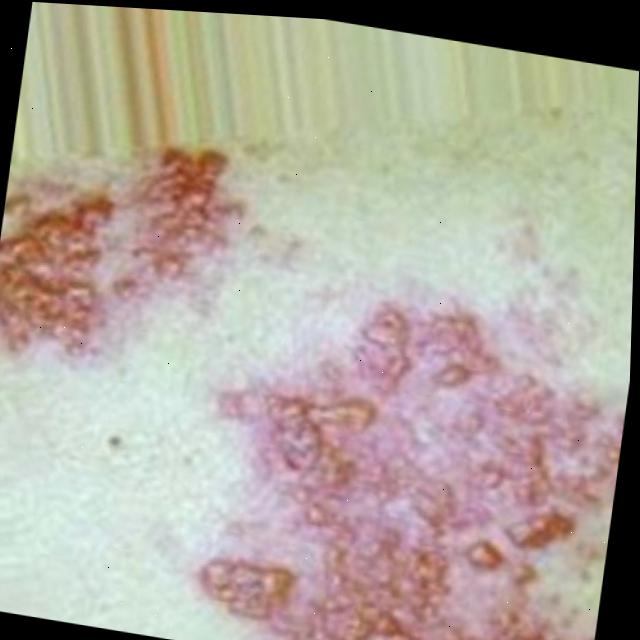Shingles: (183, 273, 632, 640), (0, 114, 242, 399)
